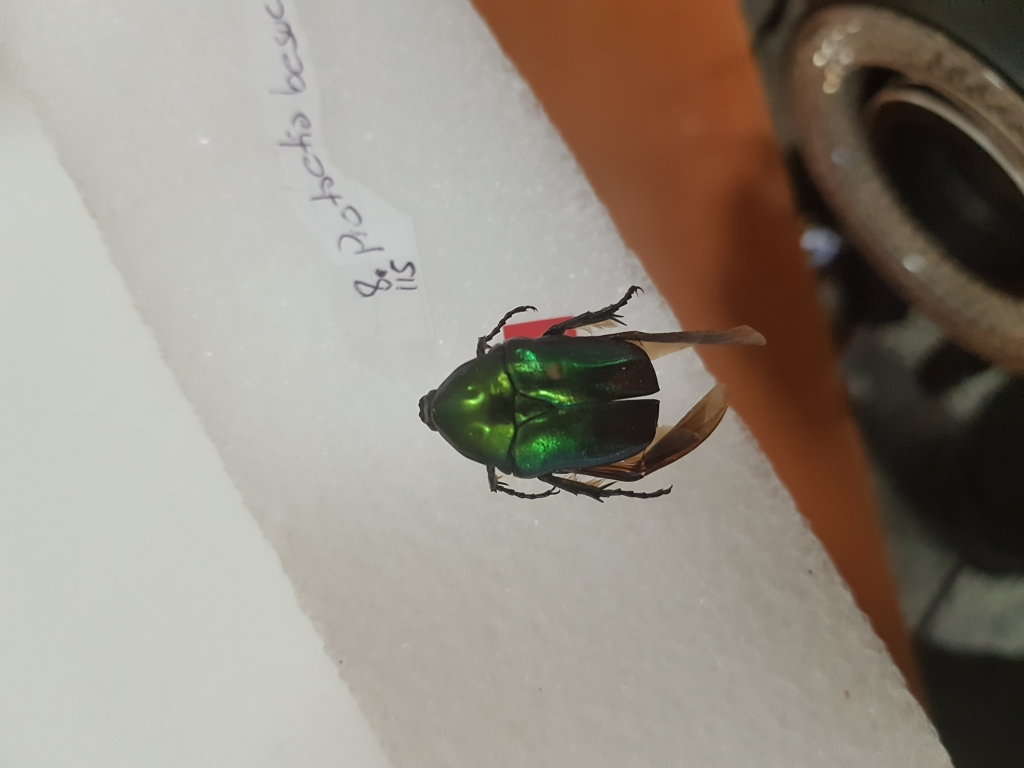Protaetia_besucheti: (405, 270, 785, 508)
